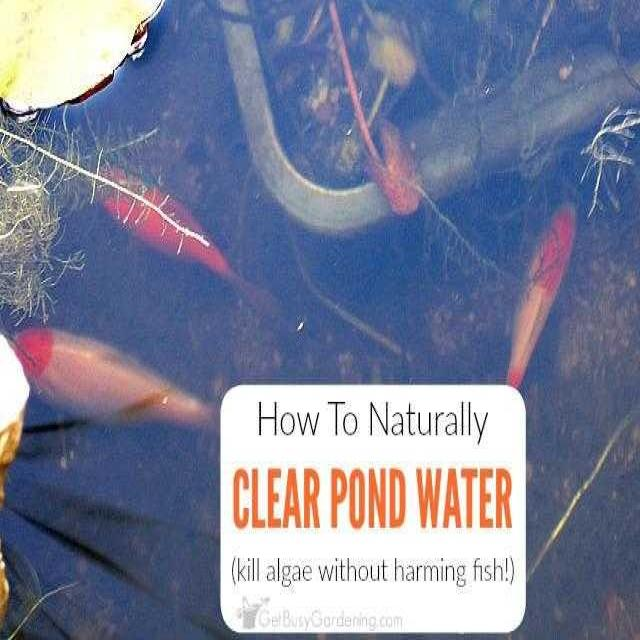Ponds: (6, 3, 640, 636)
